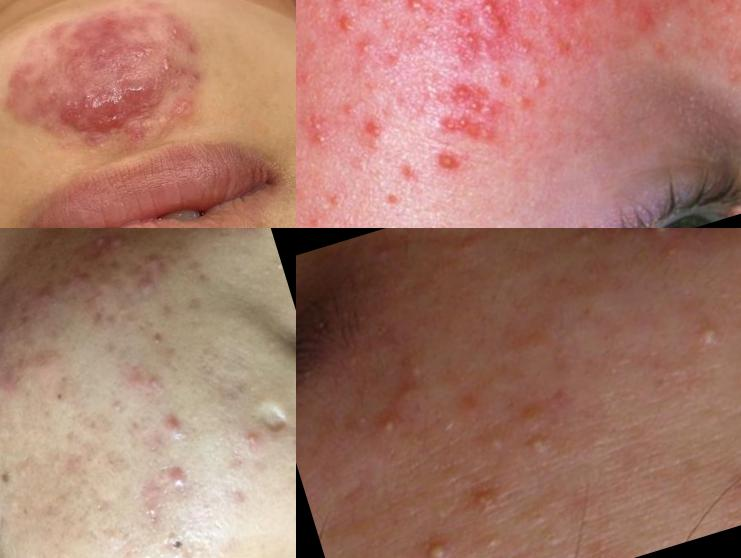blackhead: (517, 500, 557, 533), (476, 523, 508, 558), (541, 524, 569, 554)
papular: (69, 63, 179, 138), (1, 59, 70, 133), (59, 10, 132, 74), (503, 66, 567, 118), (143, 2, 200, 58), (67, 229, 139, 270), (150, 403, 193, 451), (106, 118, 156, 153), (159, 459, 200, 501), (233, 419, 275, 457), (169, 98, 207, 135), (618, 1, 658, 36), (169, 53, 204, 92), (354, 112, 393, 147), (128, 272, 165, 305), (135, 247, 169, 281)
purulent: (684, 315, 735, 358), (460, 481, 509, 524), (406, 528, 462, 558), (435, 109, 479, 141), (477, 428, 515, 464), (372, 407, 409, 442), (435, 143, 465, 186), (322, 9, 358, 43), (521, 427, 555, 463), (639, 229, 679, 250), (396, 1, 431, 22), (297, 103, 308, 148)
sebo-crystan-conglo: (439, 7, 486, 82), (467, 1, 509, 41)
whitehead: (238, 251, 287, 298), (97, 381, 135, 423), (133, 496, 169, 533), (35, 282, 61, 311), (141, 370, 167, 397), (169, 229, 200, 240)
